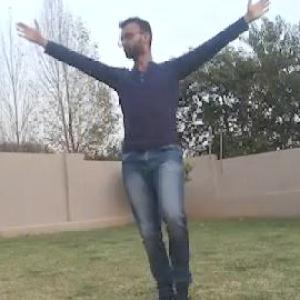takeoff: (25, 0, 246, 299)
